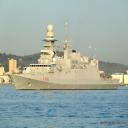Fragata: (9, 21, 122, 93)
